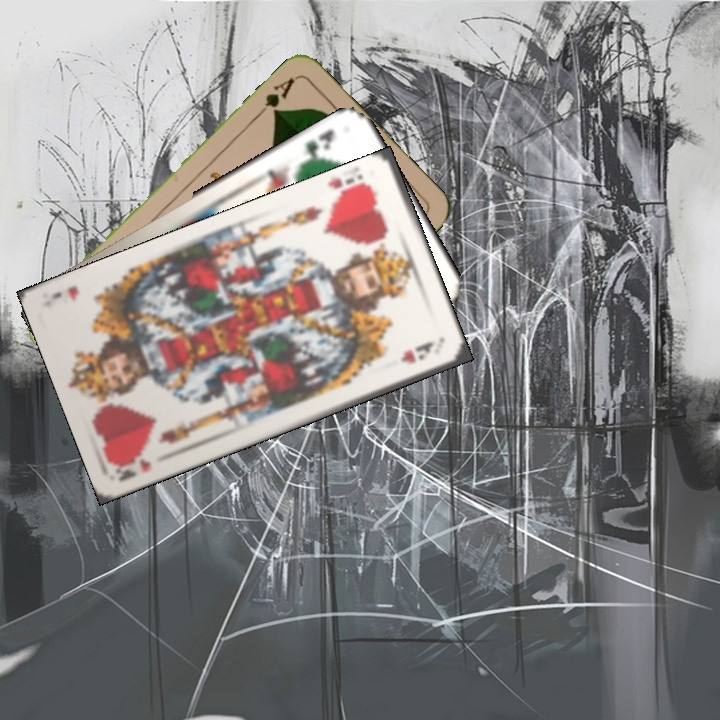GA: (252, 73, 298, 120)
GK: (298, 124, 337, 167)
HK: (326, 170, 375, 206), (111, 450, 153, 484)
